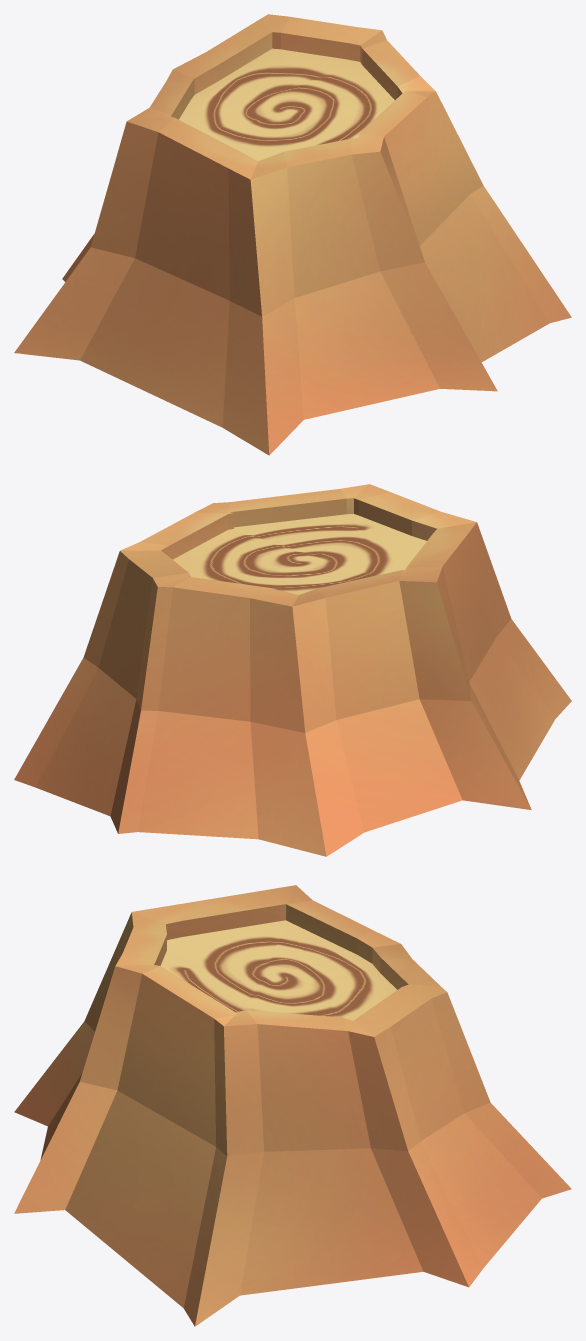
Rendered from treecut.fbx.
3 renders of one model, top to bottom at view 1: azimuth 30°, elevation 25°; view 2: azimuth 150°, elevation 25°; view 3: azimuth 270°, elevation 25°, orthographic. The views are drawn at different scales.
Visible parts, largest first — view 1: tree cut; view 2: tree cut; view 3: tree cut.
Part boxes in pixels (<box>): tree cut: <box>14,14,571,455</box>; tree cut: <box>14,484,571,856</box>; tree cut: <box>14,885,571,1326</box>.
Bounding box in the file's own units: 51.65 × 25.12 × 50.46.
Materials: 1 (1 with a texture image).
